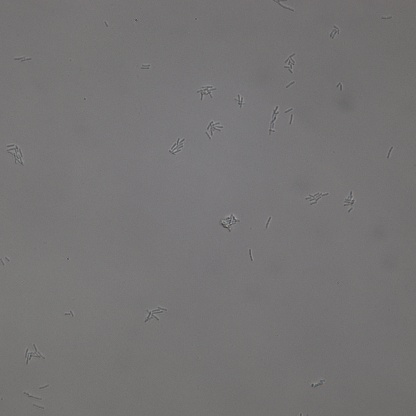R(colony): (6, 142, 25, 166), (24, 344, 46, 364), (143, 305, 167, 322), (306, 190, 330, 206), (196, 84, 217, 101), (205, 120, 223, 139), (342, 191, 357, 213), (268, 106, 279, 133), (283, 53, 296, 74), (168, 138, 184, 155)
